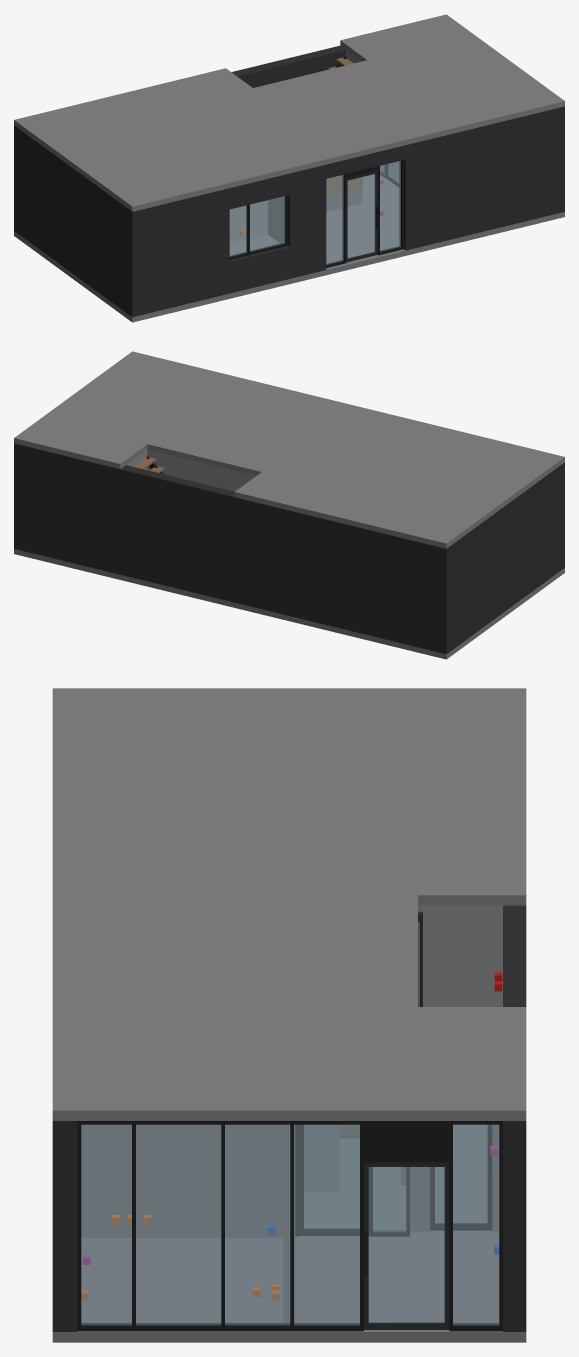
File: BLM_Lobby_v3.dae
3 views of the same model, one above another, from view 1: azimuth 30°, elevation 25°; view 2: azimuth 150°, elevation 25°; view 3: azimuth 270°, elevation 25° (orthographic). The views are drawn at different scales.
Parts seen in each view (by area): view 1: wall_dark, slab, glass, floor, steel, wall, alu, wood, concrete; view 2: wall_dark, slab, floor, wall; view 3: slab, glass, floor, wall, steel, wall_dark, alu, concrete.
Boxes of the visible parts, x1=… form: wall_dark: x1=14, y1=45, x2=564, y2=317; slab: x1=14, y1=14, x2=564, y2=211; glass: x1=229, y1=161, x2=400, y2=264; floor: x1=14, y1=161, x2=564, y2=322; steel: x1=229, y1=56, x2=403, y2=267; wall: x1=229, y1=50, x2=361, y2=243; alu: x1=346, y1=164, x2=399, y2=262; wood: x1=326, y1=57, x2=362, y2=197; concrete: x1=326, y1=189, x2=362, y2=211; wall_dark: x1=14, y1=443, x2=564, y2=654; slab: x1=14, y1=351, x2=564, y2=548; floor: x1=14, y1=549, x2=564, y2=659; wall: x1=126, y1=449, x2=255, y2=491; slab: x1=52, y1=688, x2=526, y2=1120; glass: x1=81, y1=921, x2=499, y2=1325; floor: x1=52, y1=1125, x2=526, y2=1342; wall: x1=81, y1=905, x2=502, y2=1322; steel: x1=77, y1=1121, x2=502, y2=1331; wall_dark: x1=52, y1=905, x2=526, y2=1331; alu: x1=295, y1=911, x2=492, y2=1329; concrete: x1=304, y1=1125, x2=339, y2=1191.
Bounding box in the file's own units: 12880 × 6110 × 3300.
